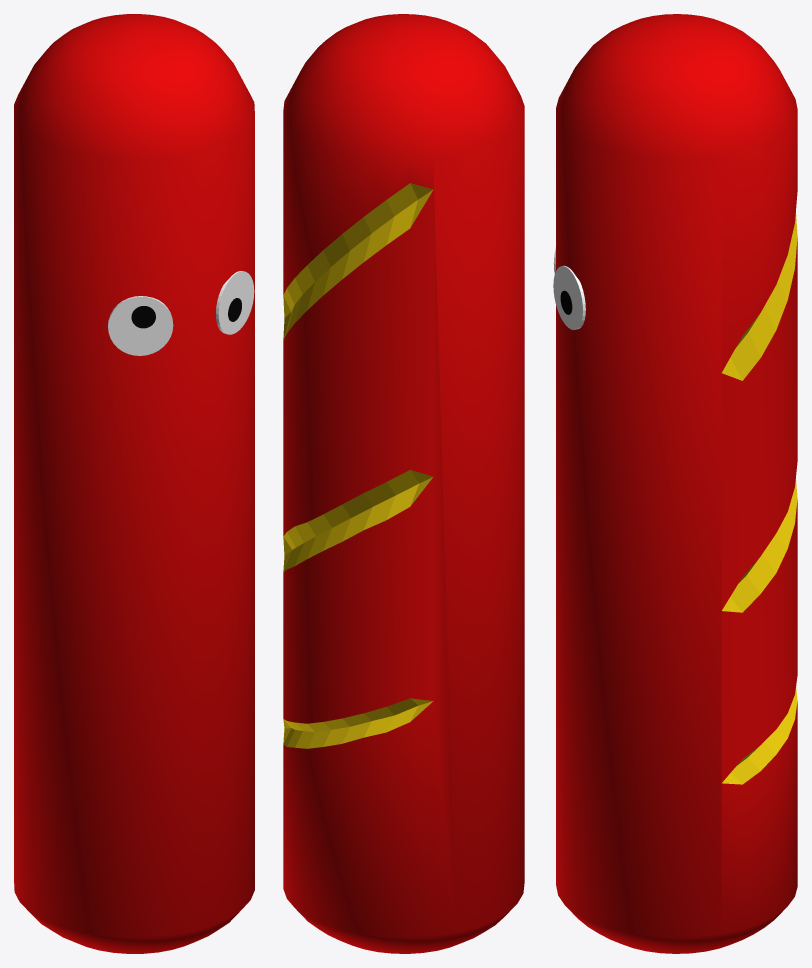
Rendered from hotdogV2_frontface.fbx.
3 renders of one model, left to right at view 1: azimuth 30°, elevation 25°; view 2: azimuth 150°, elevation 25°; view 3: azimuth 270°, elevation 25°, orthographic.
Visible parts, largest first — view 1: Cylinder.005, Cylinder.009, Cylinder.006; view 2: Cylinder.005; view 3: Cylinder.005, Cylinder.006.
Part boxes in pixels (x1,y1,x2,y2): Cylinder.005: (14, 14, 254, 953); Cylinder.009: (108, 296, 173, 355); Cylinder.006: (216, 271, 254, 334); Cylinder.005: (283, 14, 524, 953); Cylinder.005: (556, 14, 797, 953); Cylinder.006: (553, 265, 585, 329).
Bounding box in the file's own units: 200 × 830 × 202.
